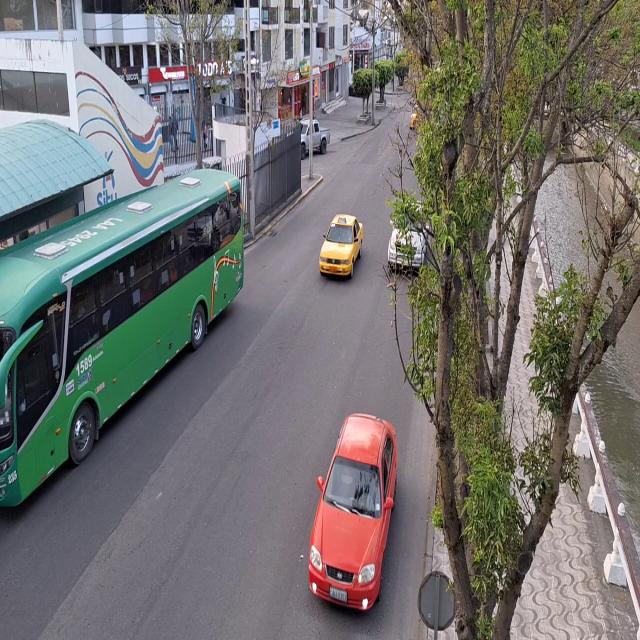BUS: (2, 175, 239, 513)
SED: (306, 411, 400, 616), (319, 213, 364, 281)
